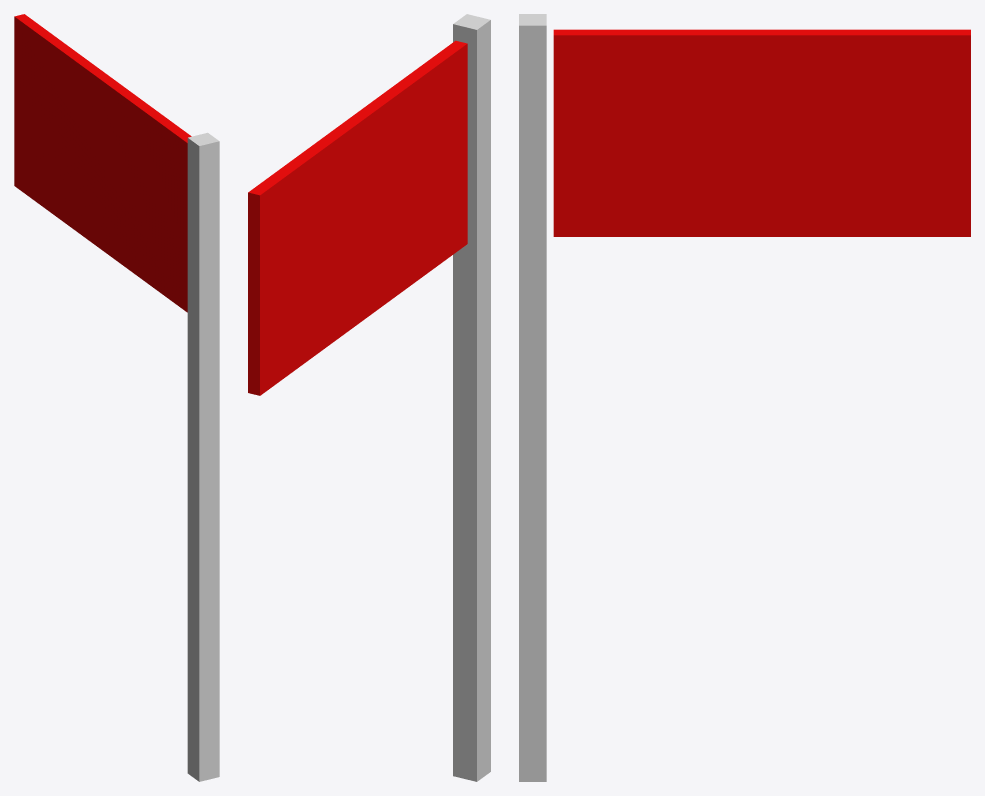
Rendered from flag_Red.fbx.
3 views of the same model, side by side, from view 1: azimuth 30°, elevation 25°; view 2: azimuth 150°, elevation 25°; view 3: azimuth 270°, elevation 25° (orthographic). The views are drawn at different scales.
Visible parts, largest first — view 1: Cube.001, Cube.002; view 2: Cube.001, Cube.002; view 3: Cube.001, Cube.002.
Part boxes in pixels (bbox=[...]): Cube.001: bbox=[14, 14, 191, 312]; Cube.002: bbox=[187, 132, 219, 781]; Cube.001: bbox=[248, 40, 467, 395]; Cube.002: bbox=[453, 14, 490, 781]; Cube.001: bbox=[553, 29, 970, 236]; Cube.002: bbox=[519, 14, 546, 781].
Bounding box in the file's own units: 20 × 600 × 325.
